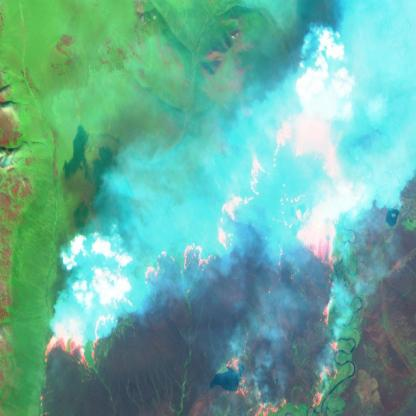fire: (36, 95, 359, 416)
